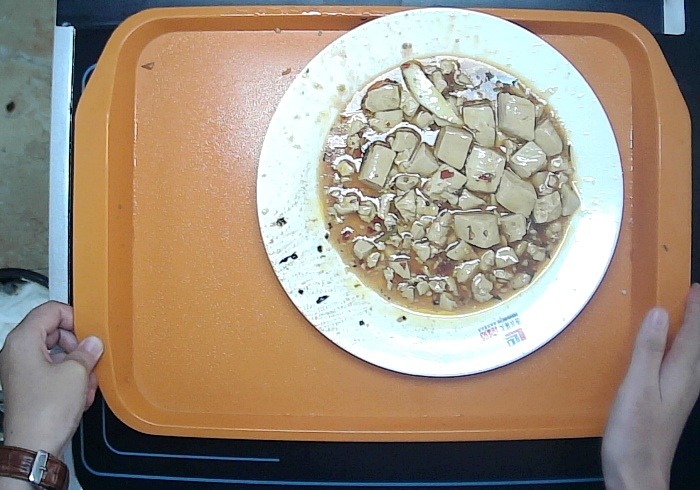ZNLD-Da_Yuan_Pan: (248, 2, 630, 391)
